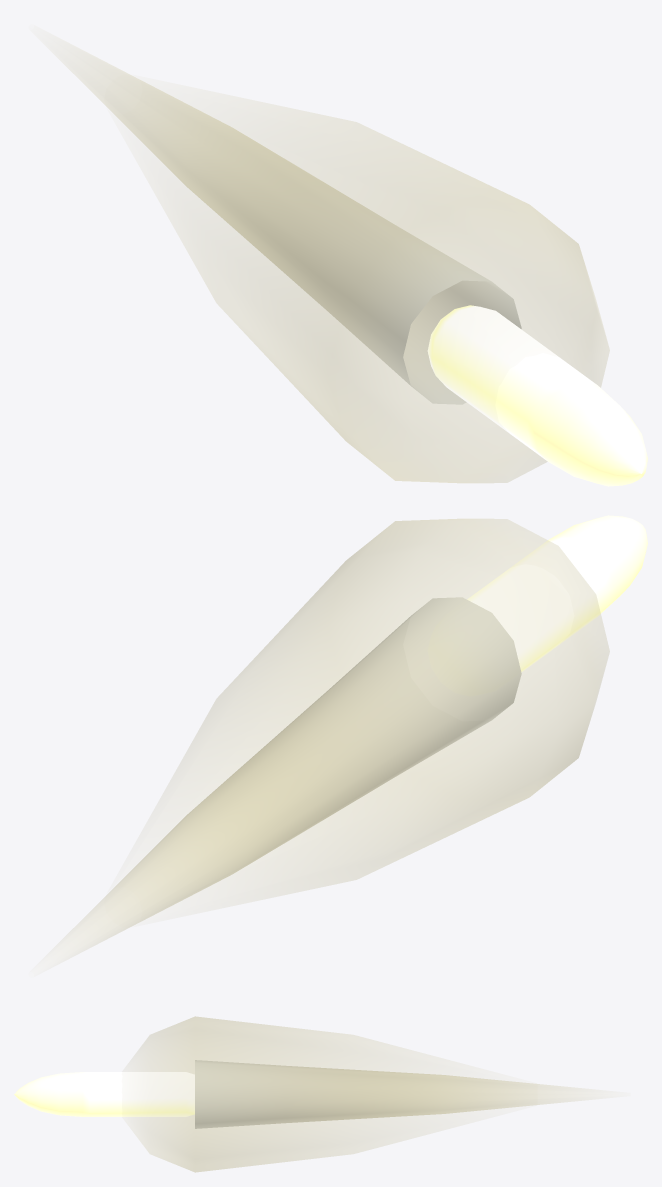
The model's file is bullet_pistol.glb.
3 renders of one model, top to bottom at view 1: azimuth 30°, elevation 25°; view 2: azimuth 150°, elevation 25°; view 3: azimuth 270°, elevation 25°, orthographic. The views are drawn at different scales.
Parts seen in each view (by area): view 1: glow, trail, body; view 2: glow, trail, body; view 3: glow, trail, body.
Part boxes in pixels (x1=…): glow: x1=148, y1=93, x2=609, y2=483; trail: x1=54, y1=41, x2=521, y2=404; body: x1=427, y1=305, x2=647, y2=486; glow: x1=148, y1=518, x2=609, y2=908; trail: x1=54, y1=597, x2=521, y2=960; body: x1=467, y1=515, x2=647, y2=672; glow: x1=127, y1=1016, x2=469, y2=1172; trail: x1=195, y1=1060, x2=602, y2=1128; body: x1=14, y1=1072, x2=194, y2=1116.
Size of the model in its own units: 0.1904 by 0.1904 by 0.77.
